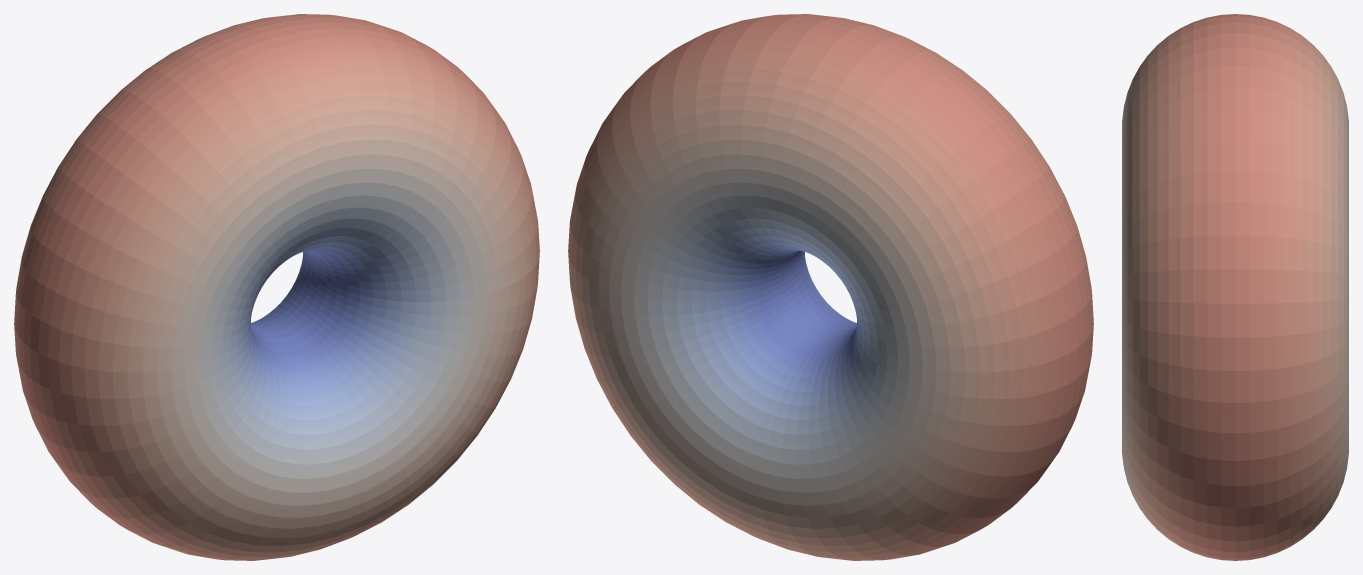
3 views of the same model, side by side, from view 1: azimuth 30°, elevation 25°; view 2: azimuth 150°, elevation 25°; view 3: azimuth 270°, elevation 25° (orthographic). The views are drawn at different scales.
Parts seen in each view (by area): view 1: world; view 2: world; view 3: world.
Part boxes in pixels (x1,y1,x2,y2): world: [14, 14, 539, 560]; world: [568, 14, 1093, 560]; world: [1122, 14, 1348, 560].
Size of the model in its own units: 22.8 by 22.76 by 9.45.
